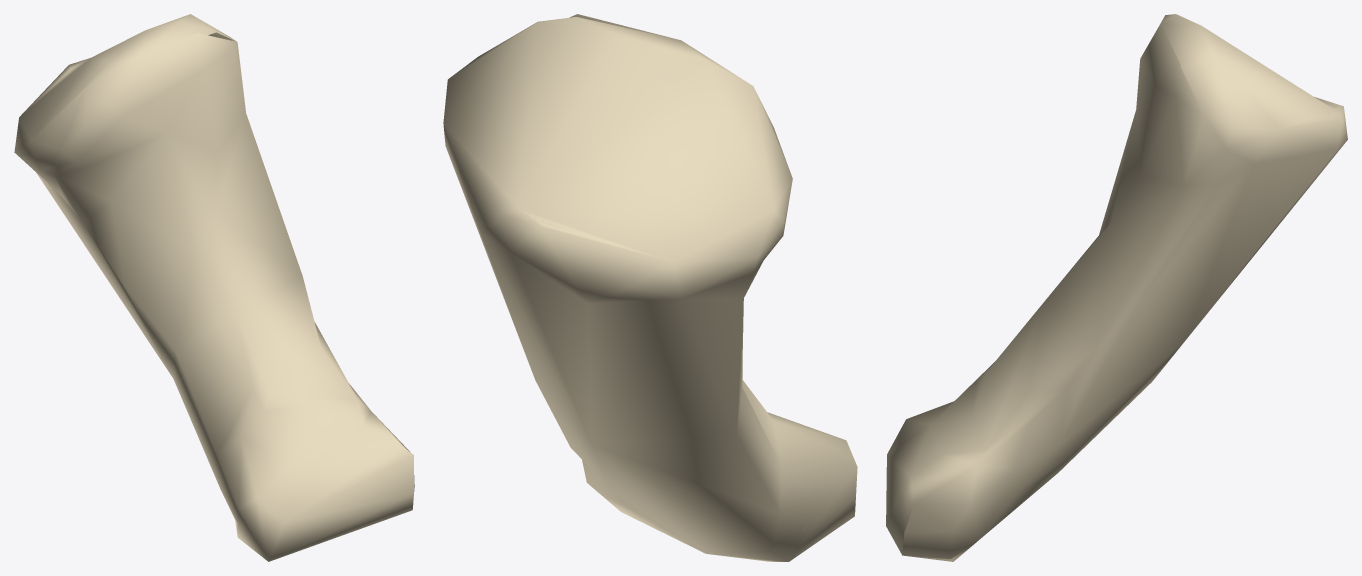
The model's file is esqueleto-middle-phalanx-of-fifth-finger-of-hand-r.glb.
3 renders of one model, left to right at view 1: azimuth 30°, elevation 25°; view 2: azimuth 150°, elevation 25°; view 3: azimuth 270°, elevation 25°, orthographic. The views are drawn at different scales.
Visible parts, largest first — view 1: Middle phalanx of fifth finger of hand.r; view 2: Middle phalanx of fifth finger of hand.r; view 3: Middle phalanx of fifth finger of hand.r.
Part boxes in pixels (box(x1,y1,x2,y2)): Middle phalanx of fifth finger of hand.r: box(14, 14, 414, 561); Middle phalanx of fifth finger of hand.r: box(443, 14, 857, 561); Middle phalanx of fifth finger of hand.r: box(886, 14, 1347, 561).
Bounding box in the file's own units: 0.012 × 0.0205 × 0.0173.
